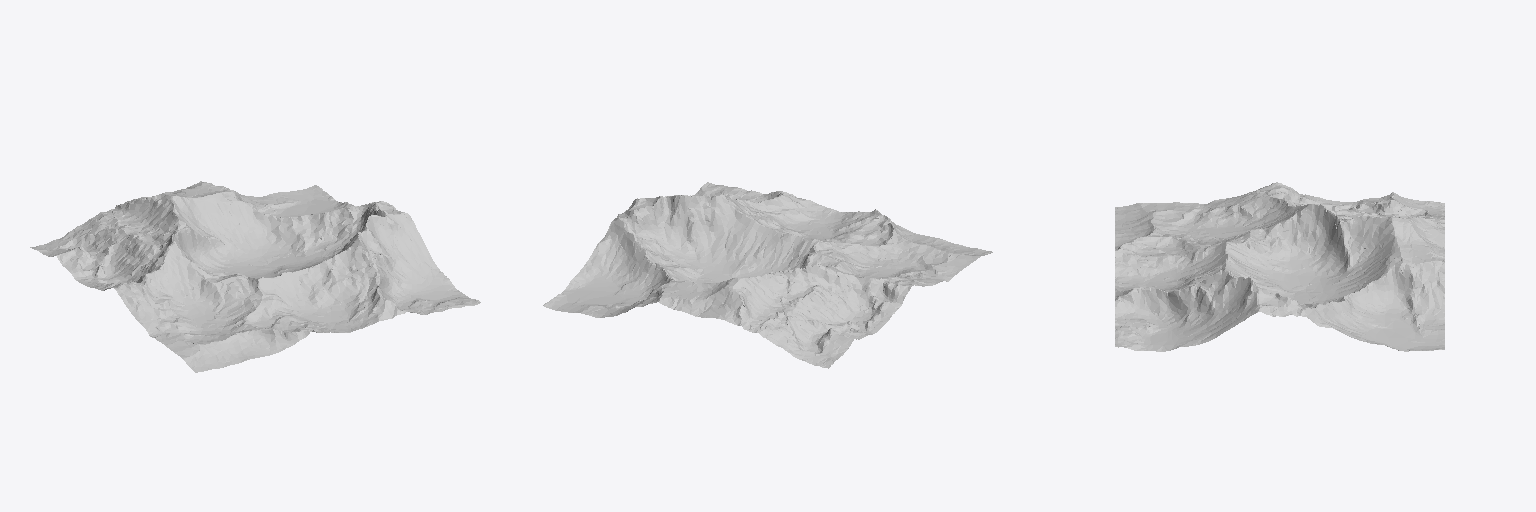
The model's file is terrain.obj.
The picture shows the model from 3 angles: view 1: azimuth 30°, elevation 25°; view 2: azimuth 150°, elevation 25°; view 3: azimuth 270°, elevation 25°; orthographic projection.
Visible parts, largest first — view 1: terrain; view 2: terrain; view 3: terrain.
Boxes of the visible parts, box(x1,y1,x2,y2) form: terrain: box(30, 181, 480, 372); terrain: box(543, 182, 992, 368); terrain: box(1115, 182, 1444, 351).
Bounding box in the file's own units: 1000 × 177 × 1000.